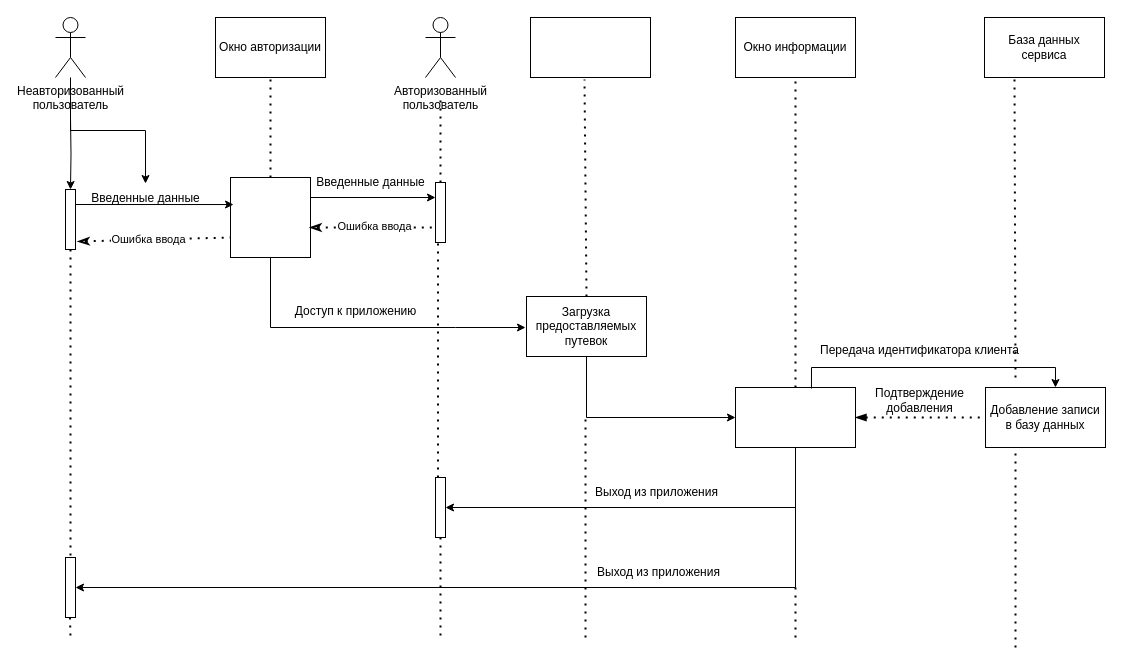
Image size: 1123x667. Some labels were removed from this diagram. The box of each missing label's shape, as (x1, y1, x2, y2) in pixels:
Основное окно: (530, 16, 650, 78)
Подробная информация путевки: (734, 386, 856, 448)
Проверка введенных данных: (230, 176, 310, 258)
